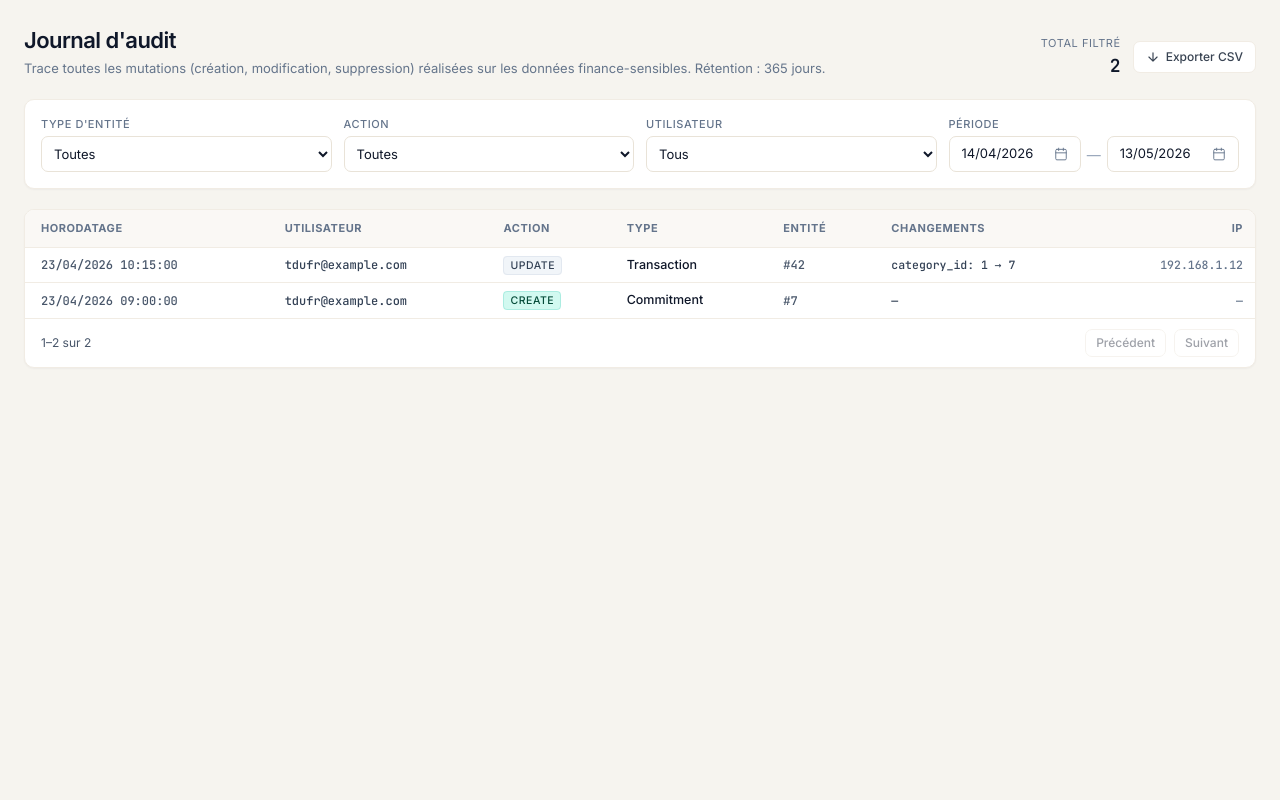
Scenario: AdminAuditLogPage › opens the detail drawer on row click
Expected: the text "192.168.1.12" is shown, [1101,247,1255,283]
Click the text "192.168.1.12" at (640, 265), box [25,247,1255,283]
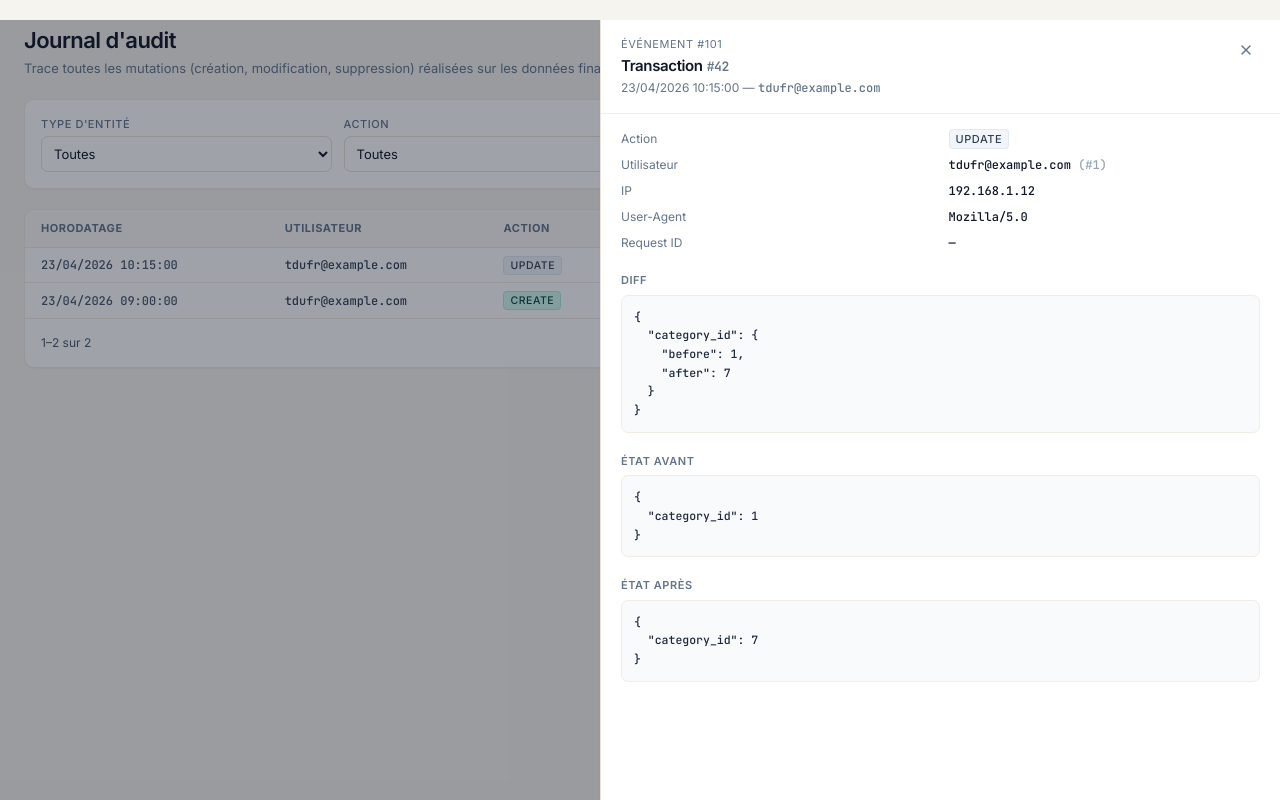
Result: the text "Événement #101" is shown at [621,37,722,51]
Result: the heading "État avant" is shown at [621,454,694,468]
Result: the heading "État après" is shown at [621,578,693,592]
